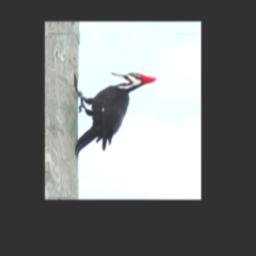Woodpecker: (72, 71, 158, 158)
